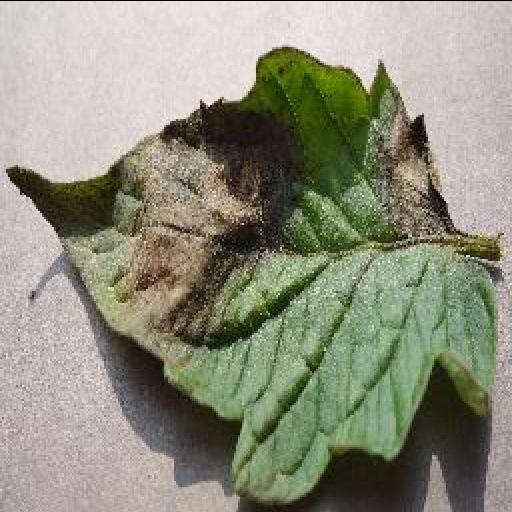disease_tomato: (0, 42, 494, 500)
